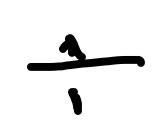div: (28, 33, 145, 116)
